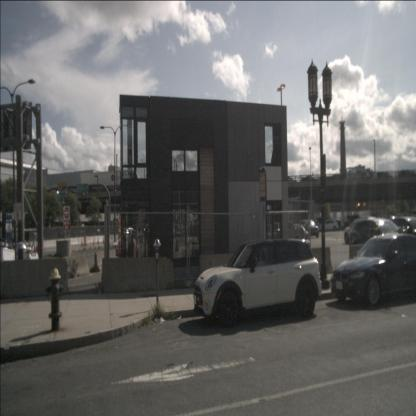barrier: (56, 238, 68, 249), (43, 240, 57, 249), (109, 234, 119, 245), (36, 240, 47, 250), (26, 241, 37, 251), (69, 237, 78, 246), (95, 235, 103, 244), (84, 236, 93, 244), (78, 236, 84, 246)
cone: (135, 221, 141, 269), (118, 215, 122, 263), (84, 236, 87, 246), (97, 237, 100, 245), (80, 238, 83, 246), (34, 244, 36, 252)
